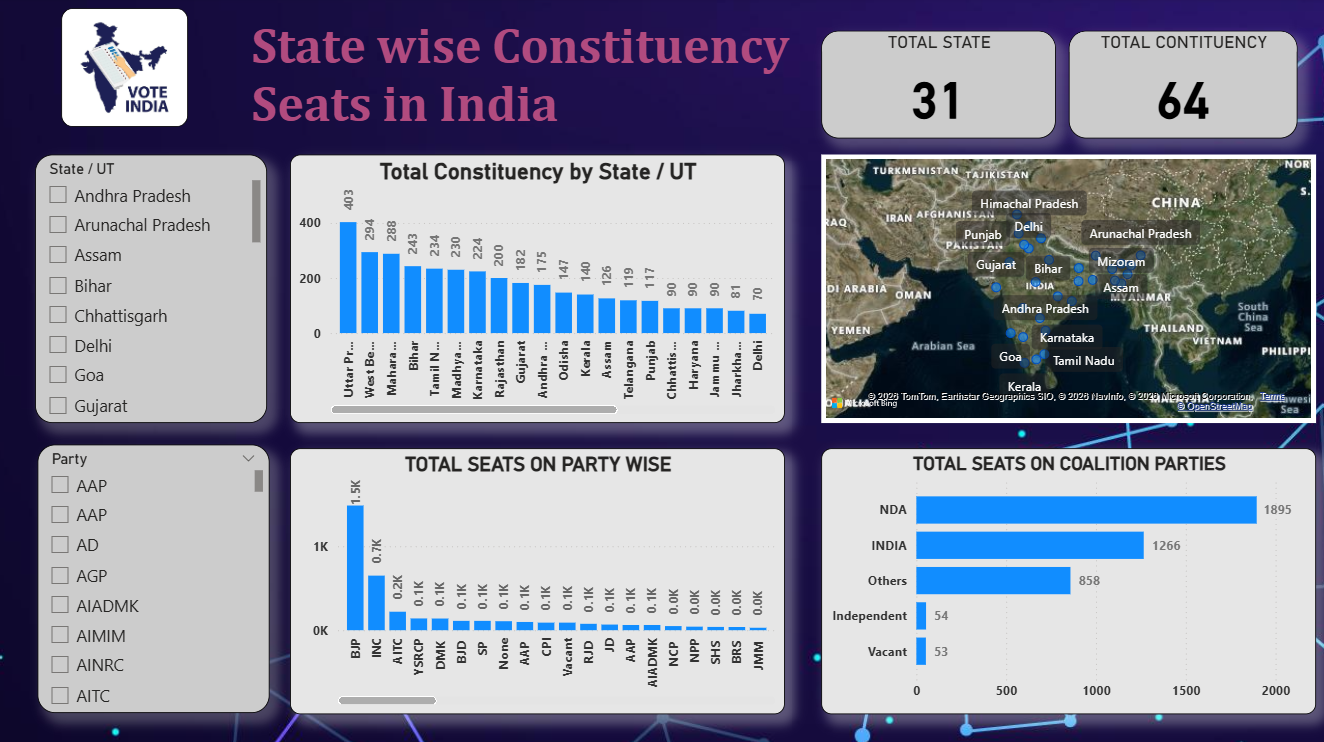

This screenshot's page, from the dashboard's own definition file:
{"tool":"powerbi","page":{"name":"Page 1","canvas":[1280,720],"ordinal":0},"visuals":[{"type":"card","title":"TOTAL STATE","fields":{"Values":["Count(Data.State / UT)"]},"box":[792.6,32.6,226.8,105],"z":0},{"type":"card","title":"TOTAL CONTITUENCY","fields":{"Values":["Count(Data.Total Constituency)"]},"box":[1042.4,32.6,228,103.8],"z":1000},{"type":"columnChart","title":"Total Constituency by State / UT","fields":{"Category":["Data.State / UT"],"Y":["Sum(Data.Total Constituency)"]},"box":[279.9,152.3,477.5,259.3],"z":2000},{"type":"map","fields":{"Category":["Data.State / UT"]},"box":[793.1,152.3,477.5,259.3],"z":3000},{"type":"columnChart","title":"TOTAL SEATS ON PARTY WISE","fields":{"Y":["Sum(Data.Total Constituency)"],"Category":["Data.Party"]},"box":[279.9,435,477.5,256.6],"z":4000},{"type":"clusteredBarChart","title":"TOTAL SEATS ON COALITION PARTIES","fields":{"Category":["Data.NDA / INDI"],"Y":["Sum(Data.Total Constituency)"]},"box":[793.1,435,477.5,256.6],"z":5000},{"type":"slicer","fields":{"Values":["Data.State / UT"]},"box":[34.3,152.3,223.7,259.3],"z":6000},{"type":"slicer","fields":{"Values":["Data.Party"]},"box":[35.7,432.2,223.7,259.3],"z":7000},{"type":"textbox","box":[237.4,13.7,544.8,138.6],"z":8000},{"type":"image","box":[33.8,13.3,167.7,124.3],"z":8001}]}

Visuals, with their boxes in screenshot pixels (x1, y1, x2, y2), scaled from the page's 1280x720 canvas onto the 1324x742 screenshot:
"TOTAL STATE" card: 820 34 1054 142
"TOTAL CONTITUENCY" card: 1078 34 1314 141
"Total Constituency by State / UT" columnChart: 290 157 783 424
map - Data.State / UT: 820 157 1314 424
"TOTAL SEATS ON PARTY WISE" columnChart: 290 448 783 713
"TOTAL SEATS ON COALITION PARTIES" clusteredBarChart: 820 448 1314 713
slicer - Data.State / UT: 35 157 267 424
slicer - Data.Party: 37 445 268 713
textbox: 246 14 809 157
image: 35 14 208 142
